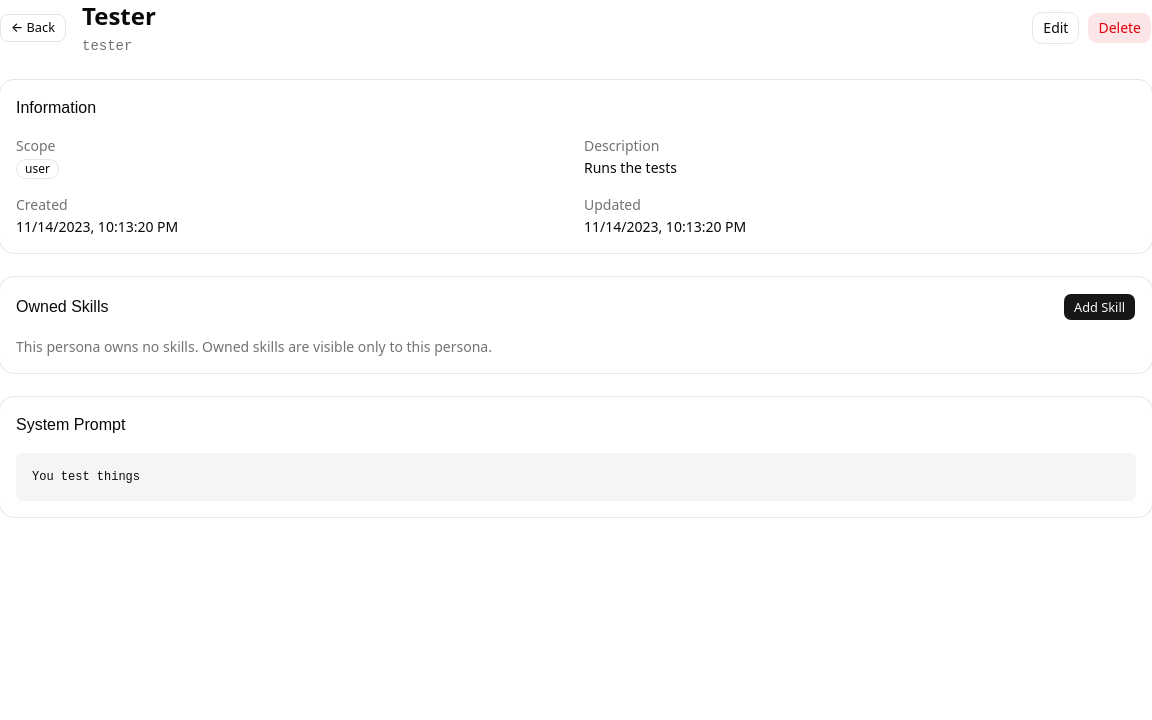
Test: PersonaDetailPage delete error handling › shows an error toast and stays on the page when delete fails
Expected: the heading "Tester" is shown, [82,0,156,32]
Click the button "Delete" at [1120, 28], box [1087,12,1151,44]
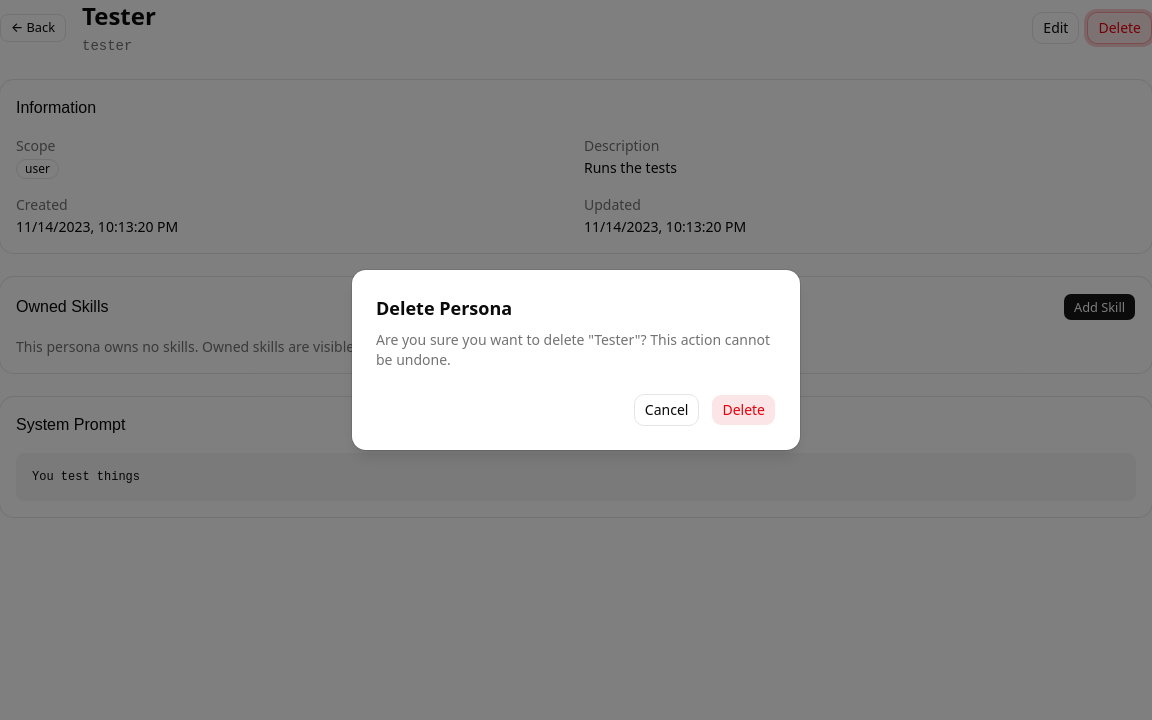
Click the button "Delete" at [744, 410], box [711,394,776,426]
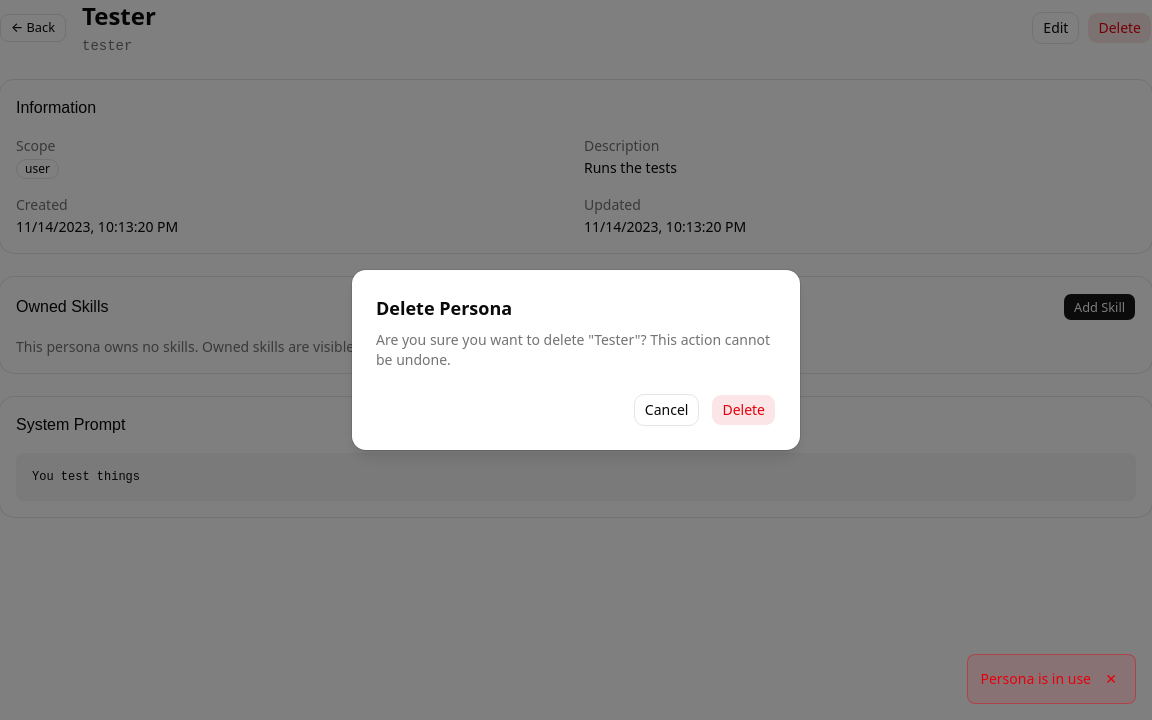
Expected: the heading "Tester" is shown, [82,0,156,32]
Now the message shows "Persona is in use", box [980,669,1091,688]
